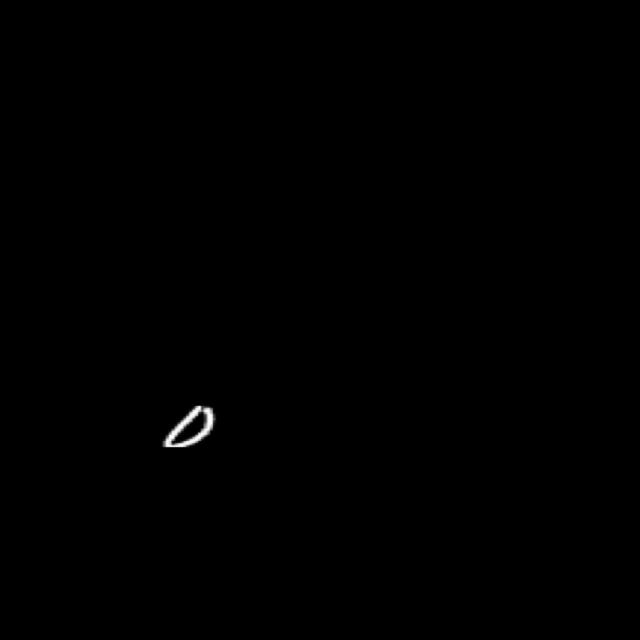zero -0-: (142, 394, 228, 466)
